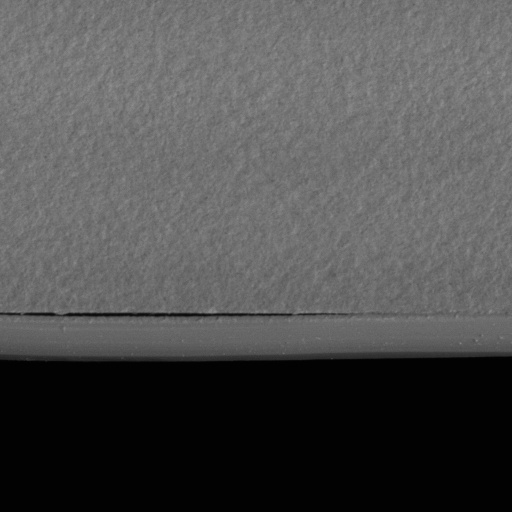jiaofeng: (0, 302, 345, 334)
